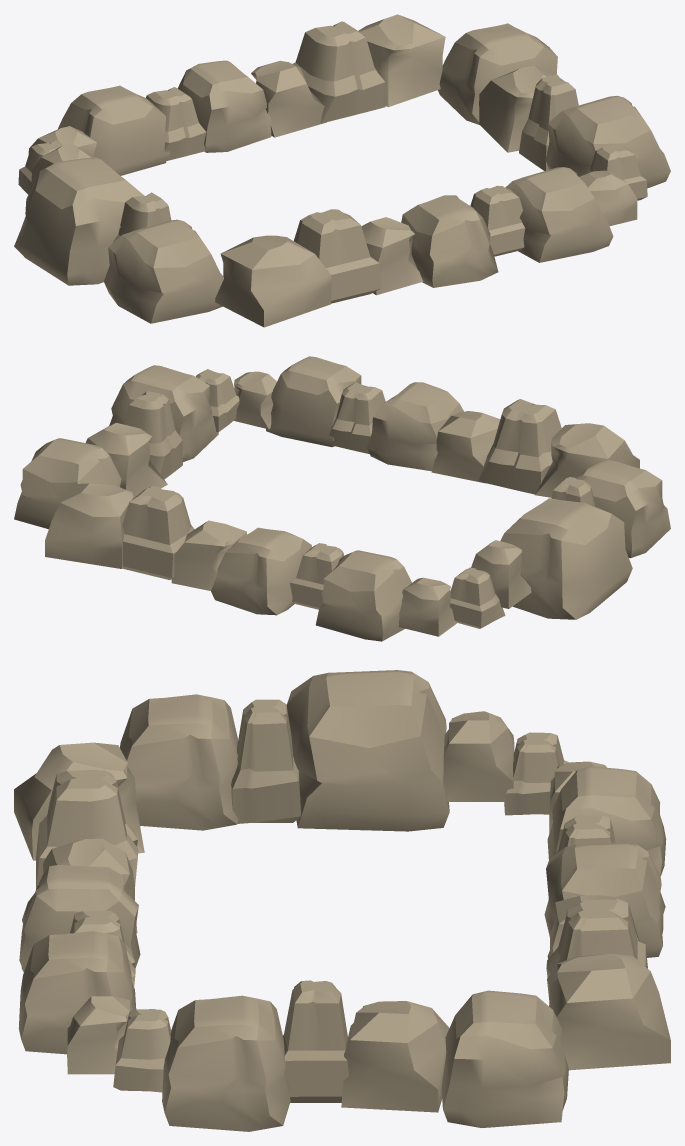
File: stone_wall_gamejam.fbx
3 views of the same model, one above another, from view 1: azimuth 30°, elevation 25°; view 2: azimuth 150°, elevation 25°; view 3: azimuth 270°, elevation 25° (orthographic). The views are drawn at different scales.
Visible parts, largest first — view 1: stone24, stone13, stone14, stone19, stone25, stone17, stone4, stone10, stone12, stone8, stone11, stone15 (+12 smaller); view 2: stone24, stone4, stone8, stone11, stone17, stone19, stone12, stone15, stone13, stone10, stone25, stone14 (+12 smaller); view 3: stone24, stone25, stone12, stone13, stone11, stone27, stone19, stone8, stone23, stone26, stone4, stone17 (+12 smaller).
Part boxes in pixels (box(x1,y1,x2,y2)): stone24: box(14, 157, 143, 285); stone13: box(104, 219, 223, 323); stone14: box(215, 235, 331, 327); stone19: box(505, 167, 613, 262); stone25: box(545, 96, 670, 188); stone17: box(401, 195, 498, 287); stone4: box(58, 85, 169, 175); stone10: box(293, 21, 385, 123); stone12: box(438, 23, 557, 124); stone8: box(177, 60, 271, 152); stone11: box(358, 14, 445, 107); stone15: box(294, 209, 380, 303); stone24: box(500, 498, 632, 619); stone4: box(315, 550, 411, 641); stone8: box(211, 527, 311, 615); stone11: box(45, 483, 133, 568); stone17: box(366, 382, 463, 471); stone19: box(266, 356, 361, 447); stone12: box(14, 438, 121, 529); stone15: box(479, 399, 561, 494); stone13: box(575, 459, 670, 558); stone10: box(122, 486, 194, 579); stone25: box(109, 365, 218, 461); stone14: box(535, 423, 639, 497); stone24: box(286, 670, 449, 831); stone25: box(162, 995, 290, 1131); stone12: box(441, 990, 568, 1127); stone13: box(120, 694, 238, 830); stone11: box(549, 953, 670, 1070); stone27: box(341, 1001, 449, 1112); stone19: box(18, 931, 136, 1054); stone8: box(544, 843, 665, 957); stone23: box(231, 699, 300, 823); stone26: box(283, 980, 348, 1102); stone4: box(547, 766, 666, 876); stone17: box(19, 865, 140, 972).
Size of the model in its own units: 107 by 16.75 by 80.03.
